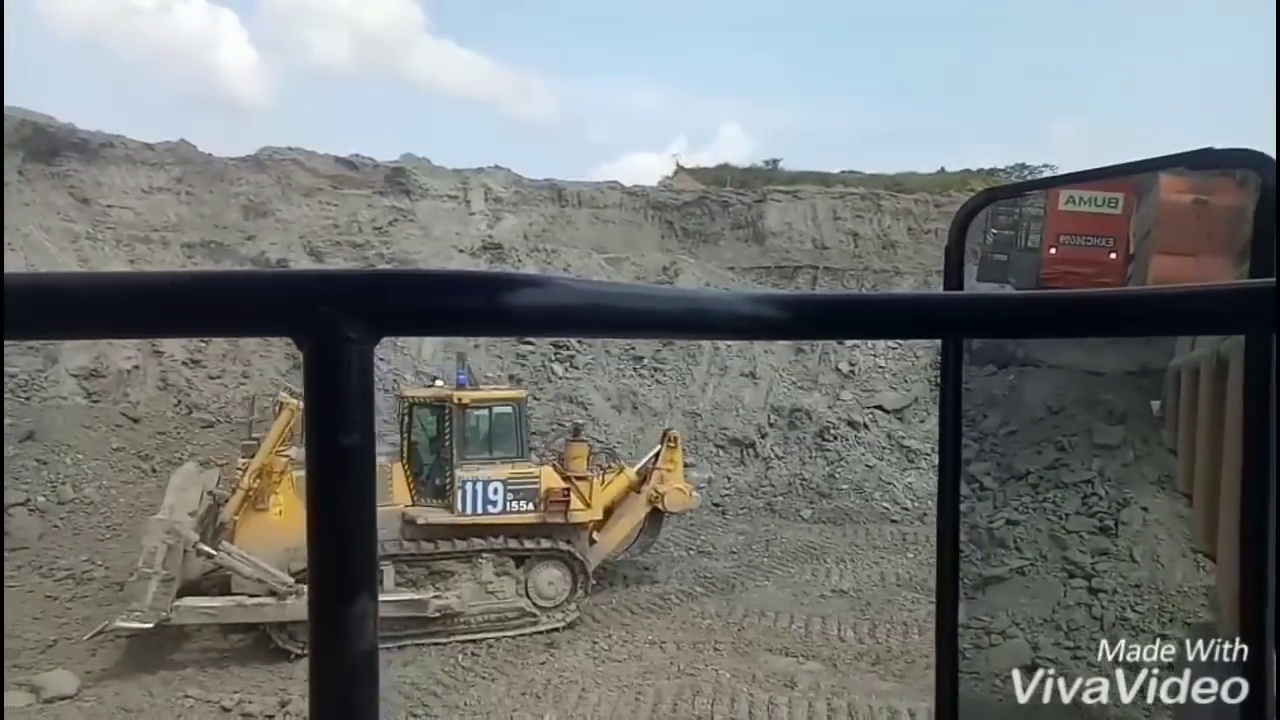bulldozer: (92, 379, 701, 661)
